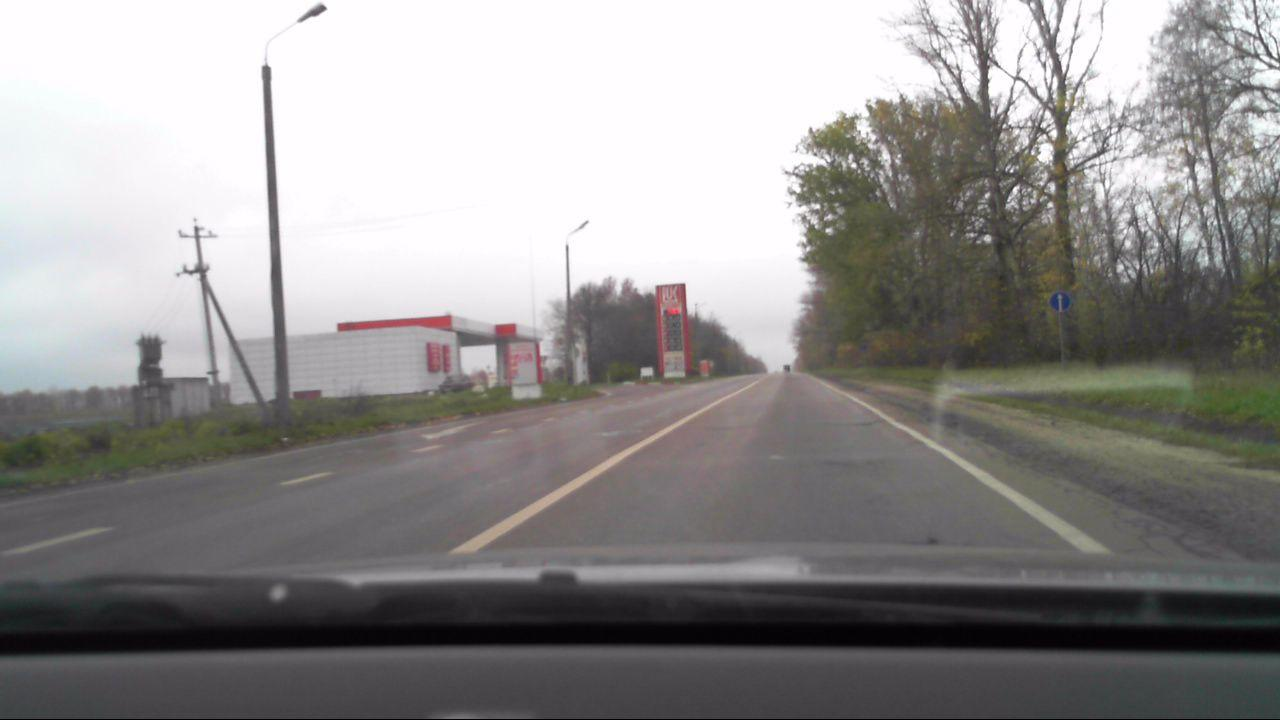4_1_1: (1051, 291, 1072, 311)
